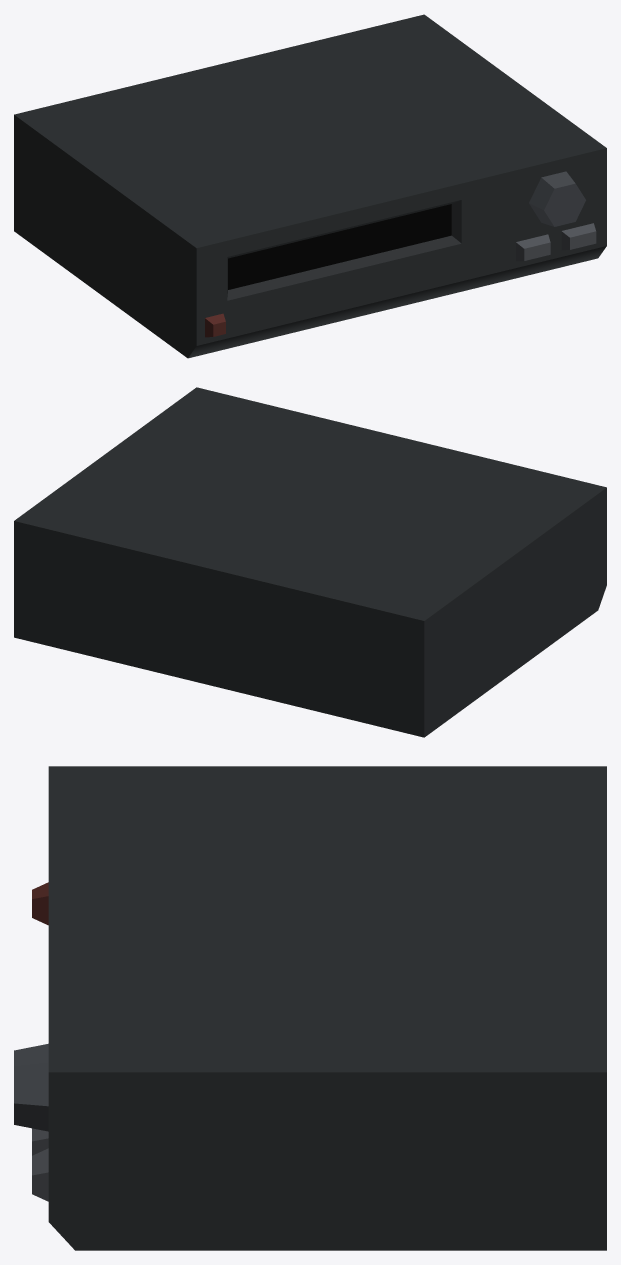
The model's file is SM_Prop_Electronics_VCR_01.glb.
3 views of the same model, one above another, from view 1: azimuth 30°, elevation 25°; view 2: azimuth 150°, elevation 25°; view 3: azimuth 270°, elevation 25° (orthographic). The views are drawn at different scales.
Visible parts, largest first — view 1: SM_Prop_Electronics_VCR_01; view 2: SM_Prop_Electronics_VCR_01; view 3: SM_Prop_Electronics_VCR_01.
Boxes of the visible parts, x1,y1,x2,y2 form: SM_Prop_Electronics_VCR_01: [14, 14, 606, 358]; SM_Prop_Electronics_VCR_01: [14, 387, 606, 737]; SM_Prop_Electronics_VCR_01: [14, 766, 606, 1250].
Bounding box in the file's own units: 0.7326 × 0.1989 × 0.5996.
1 material, 1 textured.
